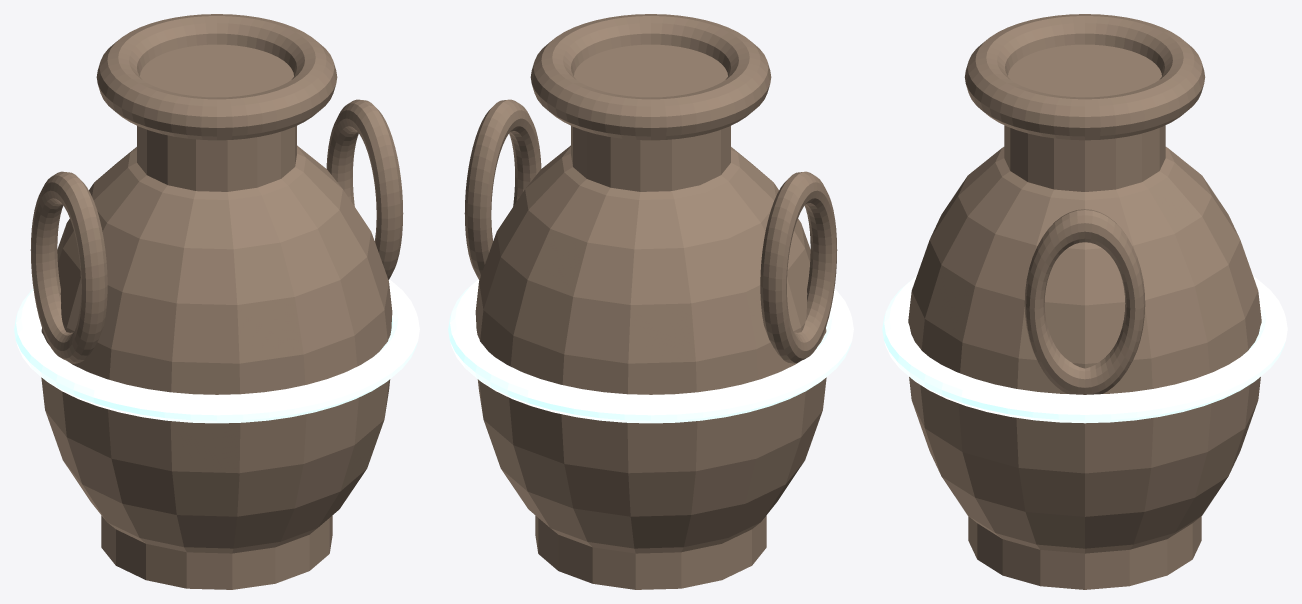
Rendered from StormChargedUrn.glb.
3 renders of one model, left to right at view 1: azimuth 30°, elevation 25°; view 2: azimuth 150°, elevation 25°; view 3: azimuth 270°, elevation 25°, orthographic.
Visible parts, largest first — view 1: StormChargedUrn; view 2: StormChargedUrn; view 3: StormChargedUrn.
Boxes of the visible parts, <box> form: StormChargedUrn: <box>14,14,419,589</box>; StormChargedUrn: <box>448,14,853,589</box>; StormChargedUrn: <box>882,14,1287,589</box>.
Size of the model in its own units: 2.26 by 3.07 by 2.26.
